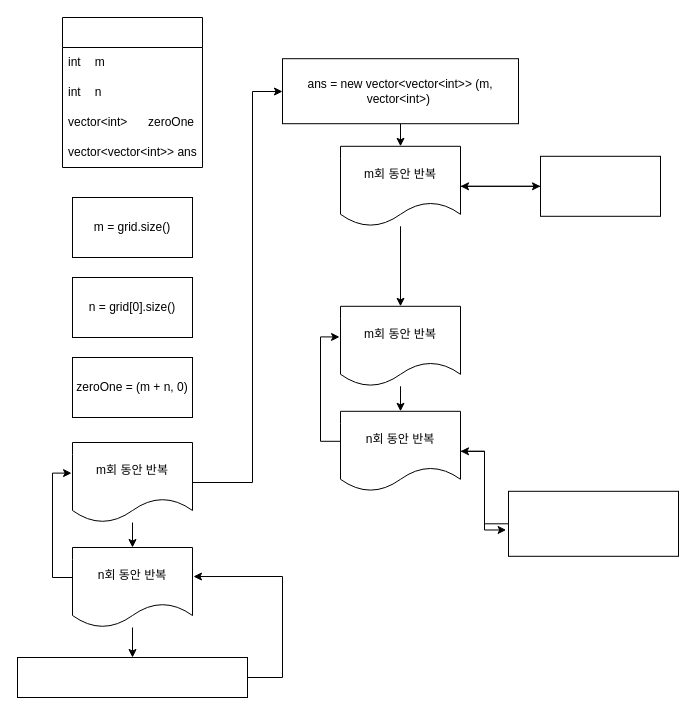
Image size: 696x715. Some labels were removed from this diagram. The shapes that lost their labels are listed below. From the top down, each one's box as (x1, y1, x2, y2) in pixels, then its label:
(62, 16, 202, 168): onesMinusZeros
(540, 155, 660, 216): ans[i] = new vector<int> (n, 0)
(508, 490, 678, 556): ans[p][q] = 2 * m - zeroOne[p] + 2 * n - zeroOne[ m + j ]
(16, 656, 248, 698): zeroOne[p] += grid[p][q] zeroOne[m + q] += grid[p][q]
